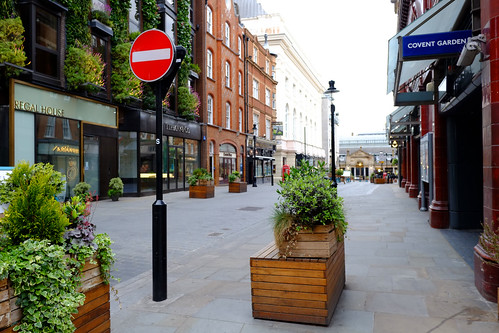building: (400, 1, 499, 322), (1, 1, 124, 198), (201, 4, 276, 182), (133, 1, 202, 189), (274, 40, 336, 174)
sign: (126, 27, 183, 92)
